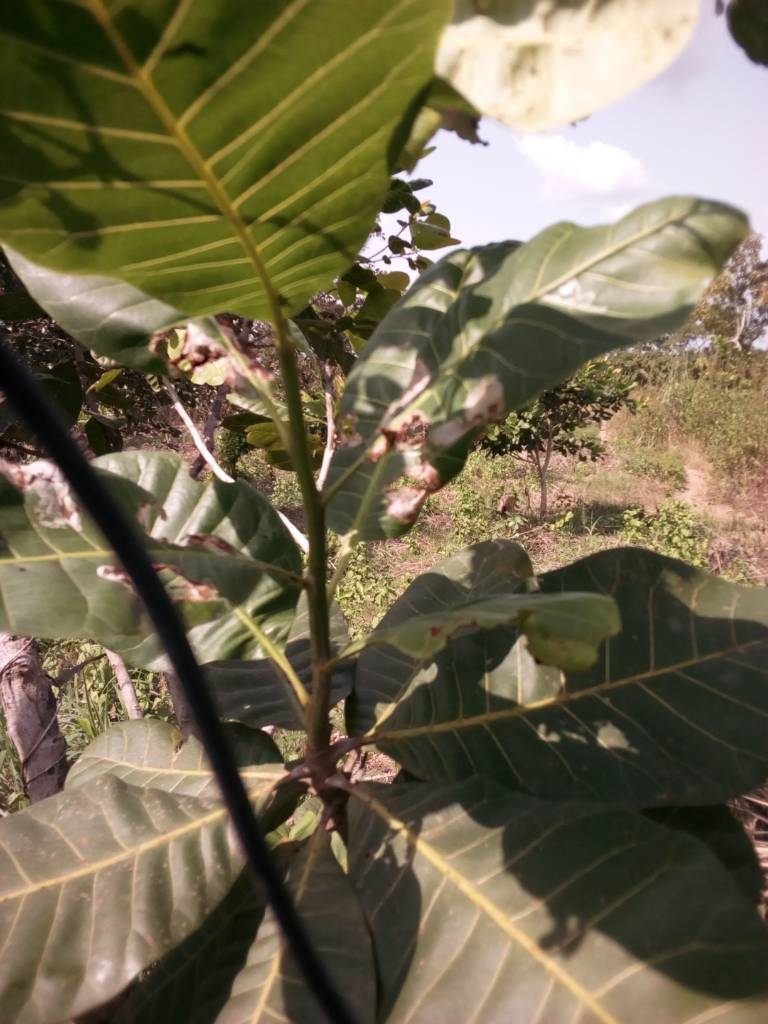Anoplonemis curvipes: (330, 175, 760, 547)
